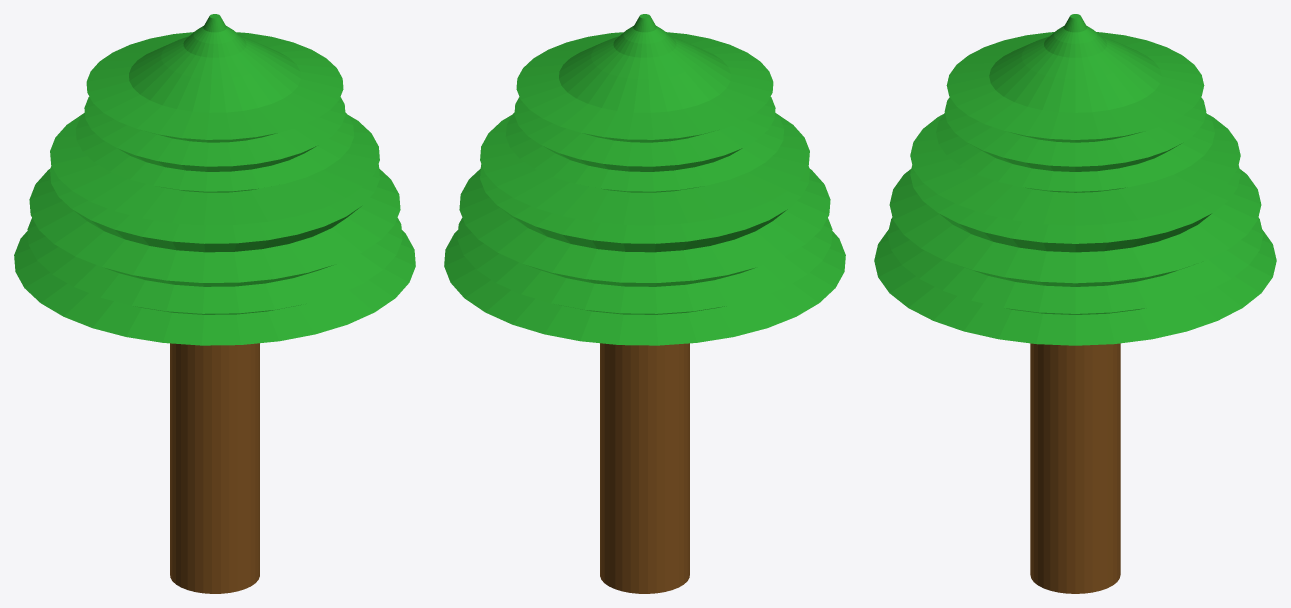
Rendered from JAm2_tree1.fbx.
3 views of the same model, side by side, from view 1: azimuth 30°, elevation 25°; view 2: azimuth 150°, elevation 25°; view 3: azimuth 270°, elevation 25° (orthographic).
Parts seen in each view (by area): view 1: tree.002; view 2: tree.002; view 3: tree.002.
Part boxes in pixels (x1,y1,x2,y2): tree.002: (14, 14, 415, 593); tree.002: (444, 14, 845, 593); tree.002: (874, 14, 1276, 593).
Size of the model in its own units: 3955 by 6055 by 3955.
